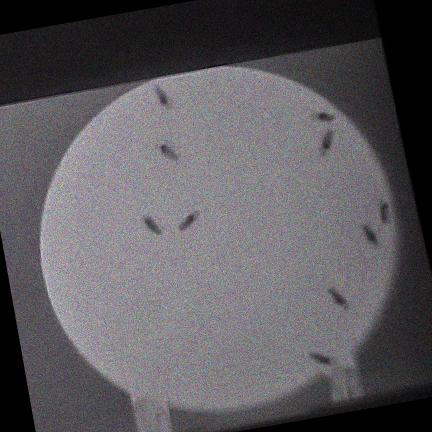fly: (329, 286, 348, 309), (319, 129, 334, 155), (179, 210, 199, 229), (154, 85, 171, 107), (362, 224, 379, 246), (143, 215, 161, 234), (159, 142, 178, 159), (309, 351, 333, 363), (379, 199, 390, 222), (313, 111, 334, 120)
